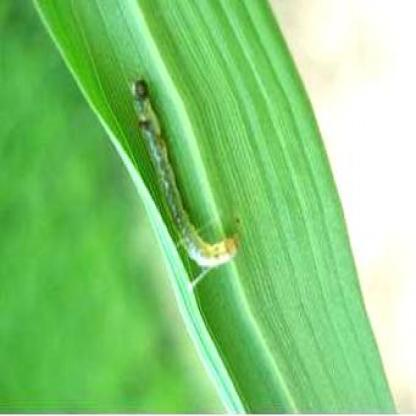leaf-folder: (119, 61, 245, 279)
